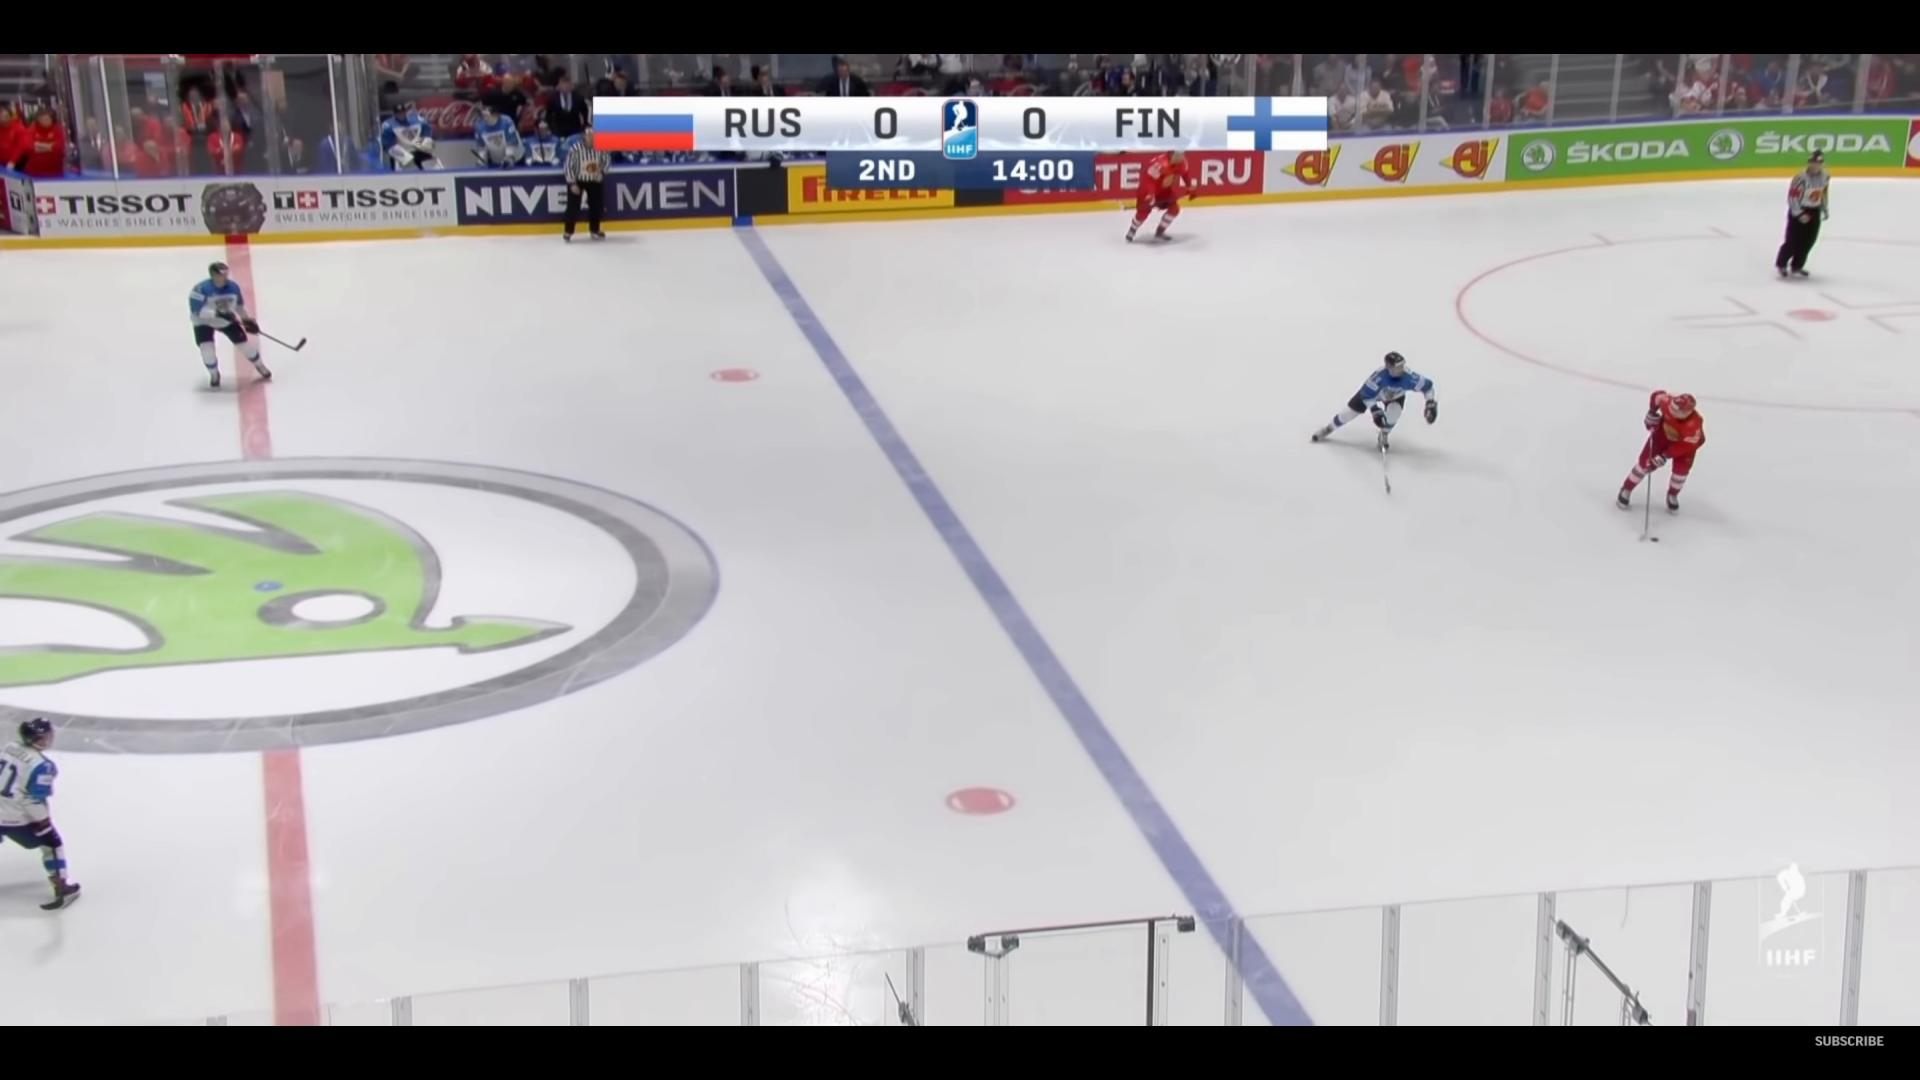puck: (1650, 535, 1659, 542)
